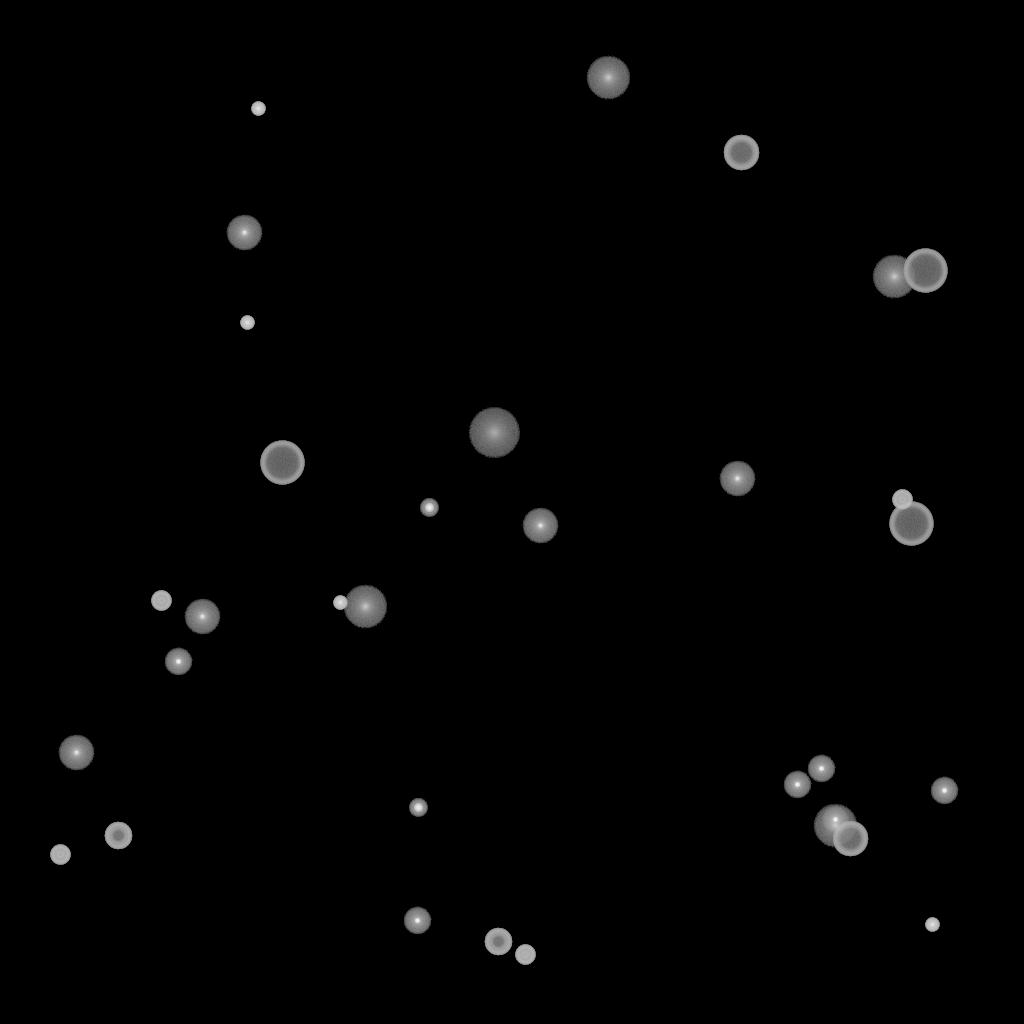depth:-10: (783, 771, 811, 799), (403, 907, 431, 935), (821, 806, 849, 834), (807, 755, 835, 783), (164, 648, 192, 676), (930, 777, 958, 805)
depth:-20: (409, 799, 427, 817), (420, 499, 438, 517)
depth:-30: (333, 596, 347, 610), (925, 918, 939, 932), (240, 316, 254, 330), (251, 102, 265, 116)
depth:-40: (50, 845, 70, 865), (151, 591, 171, 611), (515, 945, 535, 965), (892, 490, 912, 510)
depth:-50: (104, 822, 132, 850), (484, 928, 512, 956)
depth:-60: (723, 135, 759, 171), (832, 821, 868, 857)
depth:-70: (903, 249, 947, 293), (260, 441, 304, 485), (889, 502, 933, 546)
depth:0: (226, 215, 262, 251), (58, 735, 94, 771), (719, 461, 755, 497), (522, 508, 558, 544), (184, 599, 220, 635)
depth:10: (586, 56, 630, 100), (813, 804, 857, 848), (872, 255, 916, 299), (343, 585, 387, 629)
depth:20: (468, 408, 520, 458)
